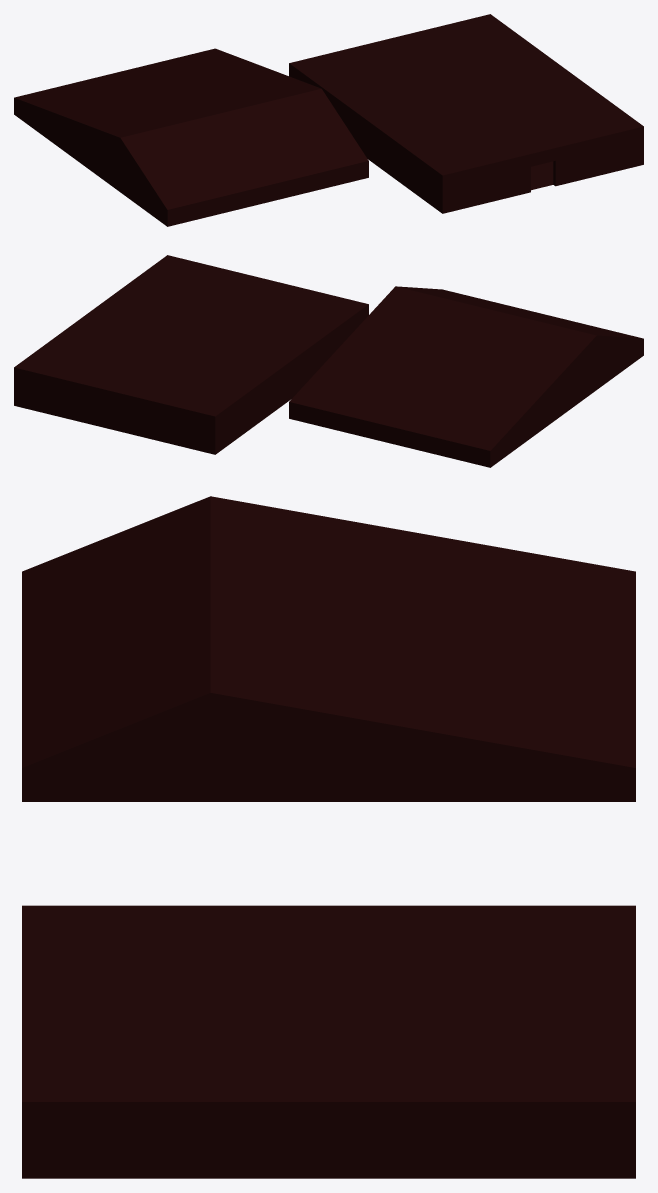
3 renders of one model, top to bottom at view 1: azimuth 30°, elevation 25°; view 2: azimuth 150°, elevation 25°; view 3: azimuth 270°, elevation 25°, orthographic. The views are drawn at different scales.
Visible parts, largest first — view 1: imagetostl_mesh106, imagetostl_mesh104, imagetostl_mesh191, imagetostl_mesh105, imagetostl_mesh170, imagetostl_mesh163, imagetostl_mesh177, imagetostl_mesh167, imagetostl_mesh192, imagetostl_mesh188, imagetostl_mesh198, imagetostl_mesh200 (+12 smaller); view 2: imagetostl_mesh104, imagetostl_mesh191, imagetostl_mesh169, imagetostl_mesh105, imagetostl_mesh170, imagetostl_mesh103, imagetostl_mesh192, imagetostl_mesh188, imagetostl_mesh198, imagetostl_mesh106, imagetostl_mesh200, imagetostl_mesh202 (+9 smaller); view 3: imagetostl_mesh104, imagetostl_mesh191, imagetostl_mesh168, imagetostl_mesh162, imagetostl_mesh106, imagetostl_mesh192, imagetostl_mesh188, imagetostl_mesh198, imagetostl_mesh200, imagetostl_mesh202, imagetostl_mesh196, imagetostl_mesh194 (+8 smaller).
Part boxes in pixels (box(x1,y1,x2,y2)): imagetostl_mesh106: box(120, 89, 368, 209); imagetostl_mesh104: box(14, 48, 321, 137); imagetostl_mesh191: box(392, 48, 637, 172); imagetostl_mesh105: box(14, 97, 167, 226); imagetostl_mesh170: box(289, 63, 442, 213); imagetostl_mesh163: box(167, 161, 368, 226); imagetostl_mesh177: box(442, 154, 530, 213); imagetostl_mesh167: box(555, 126, 643, 185); imagetostl_mesh192: box(410, 16, 517, 57); imagetostl_mesh188: box(289, 14, 643, 175); imagetostl_mesh198: box(345, 87, 434, 125); imagetostl_mesh200: box(465, 56, 565, 92); imagetostl_mesh104: box(289, 286, 596, 450); imagetostl_mesh191: box(99, 257, 362, 382); imagetostl_mesh169: box(14, 367, 215, 454); imagetostl_mesh105: box(490, 335, 643, 467); imagetostl_mesh170: box(215, 304, 368, 454); imagetostl_mesh103: box(289, 402, 490, 467); imagetostl_mesh192: box(20, 345, 127, 385); imagetostl_mesh188: box(14, 255, 368, 416); imagetostl_mesh198: box(208, 338, 297, 377); imagetostl_mesh106: box(396, 286, 642, 338); imagetostl_mesh200: box(75, 310, 175, 345); imagetostl_mesh202: box(51, 327, 151, 363); imagetostl_mesh104: box(210, 496, 635, 767); imagetostl_mesh191: box(30, 909, 565, 1098); imagetostl_mesh168: box(22, 1102, 635, 1178); imagetostl_mesh162: box(22, 693, 635, 801); imagetostl_mesh106: box(22, 496, 210, 767); imagetostl_mesh192: box(509, 1021, 627, 1098); imagetostl_mesh188: box(22, 905, 635, 1101); imagetostl_mesh198: box(287, 909, 428, 963); imagetostl_mesh200: box(318, 1021, 408, 1098); imagetostl_mesh202: box(414, 1021, 504, 1098); imagetostl_mesh196: box(120, 909, 225, 965); imagetostl_mesh194: box(379, 965, 627, 986).
Bounding box in the file's own units: 153638 × 33491 × 85732.
